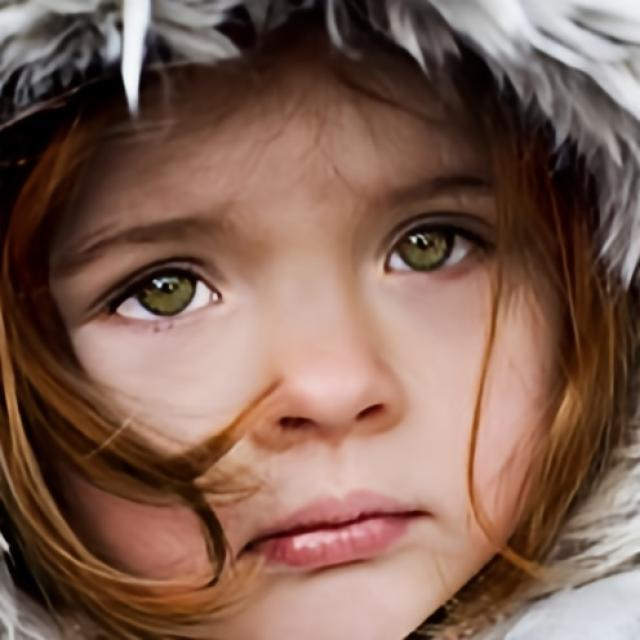sad: (50, 82, 521, 640)
